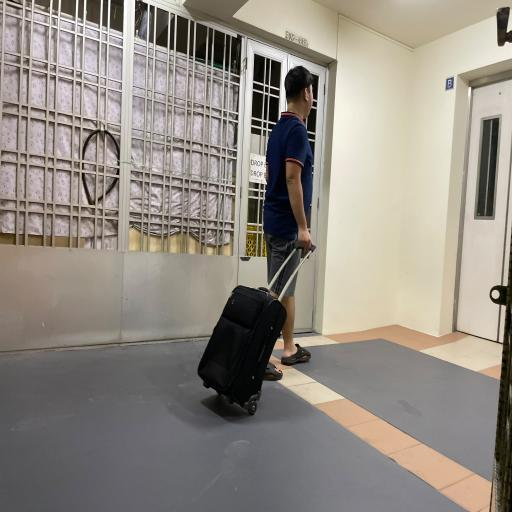person_right: (194, 49, 330, 420)
